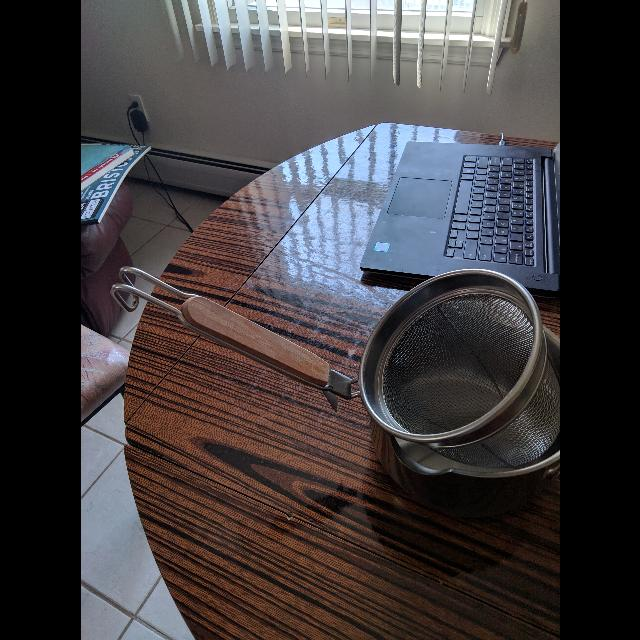Handle: (103, 254, 367, 410)
Strainer: (359, 260, 555, 447)
